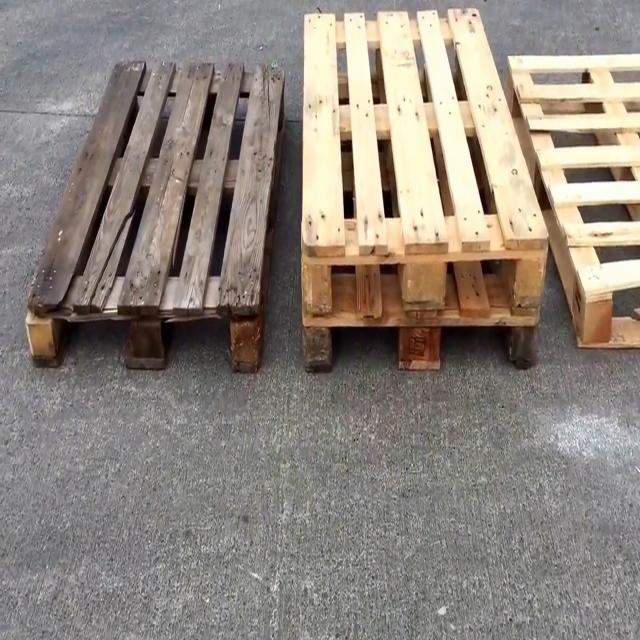Palette: (12, 42, 292, 390), (298, 4, 550, 378), (508, 43, 640, 358)
